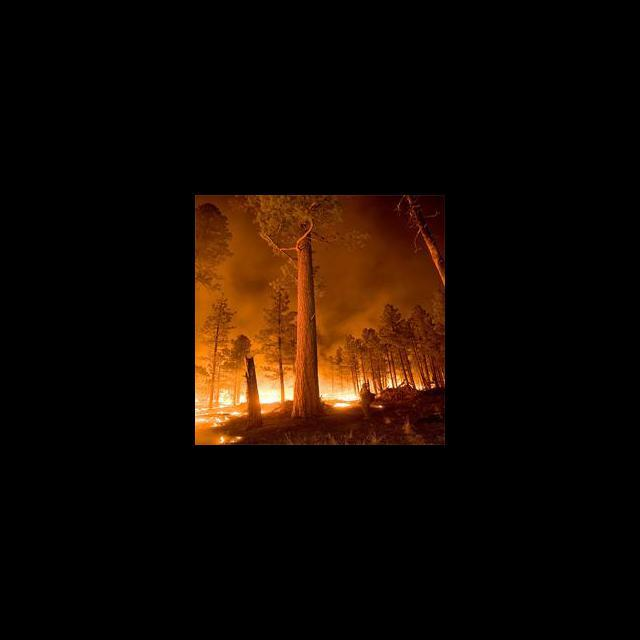Fire: (196, 371, 428, 445)
